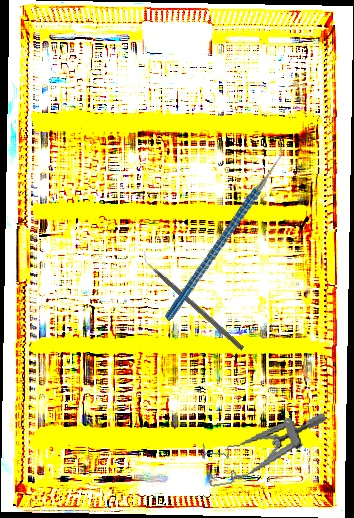Chopper: (119, 136, 330, 322), (137, 249, 250, 351)
Speculum: (198, 411, 334, 488)
